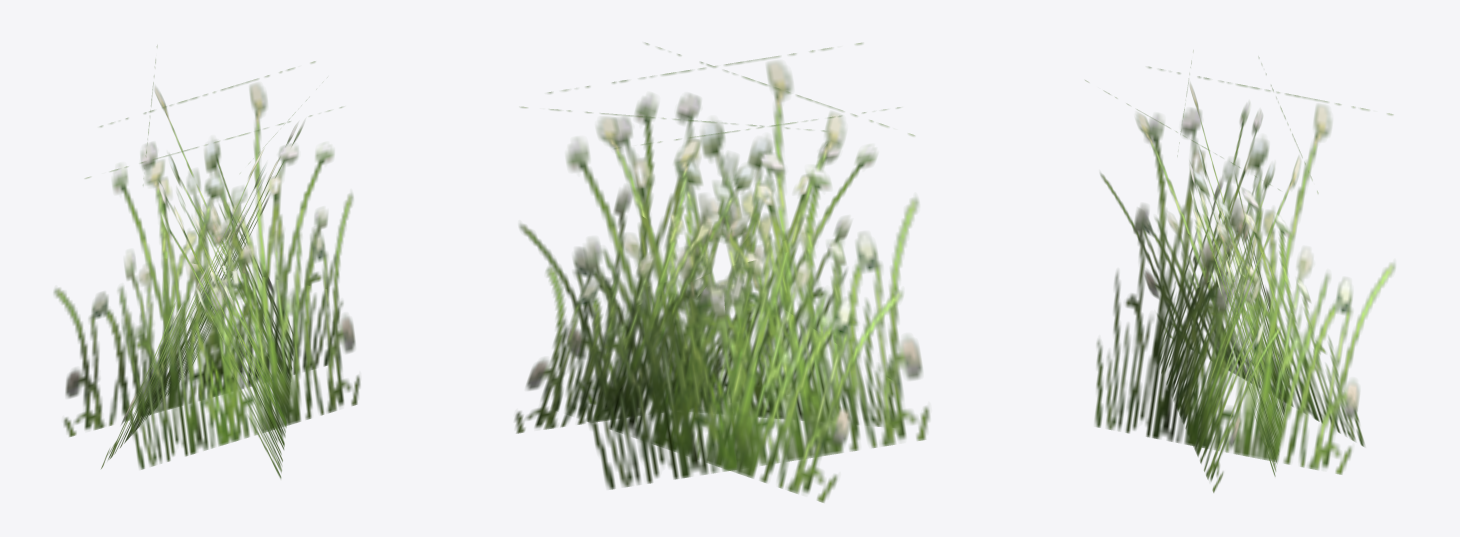
File: grass-11.glb
The picture shows the model from 3 angles, left to right: view 1: azimuth 30°, elevation 25°; view 2: azimuth 150°, elevation 25°; view 3: azimuth 270°, elevation 25°; orthographic projection. The views are drawn at different scales.
Parts seen in each view (by area): view 1: cross_large_short; view 2: cross_large_short; view 3: cross_large_short.
Boxes of the visible parts, x1,y1,x2,y2 form: cross_large_short: (54, 45, 360, 478); cross_large_short: (514, 43, 929, 502); cross_large_short: (1085, 50, 1395, 492).
Size of the model in its own units: 5.38 by 4.12 by 4.74.
Materials: 1 (1 with a texture image).
